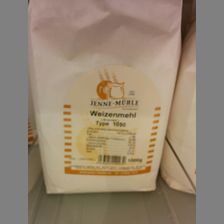flour: (29, 1, 182, 196)
